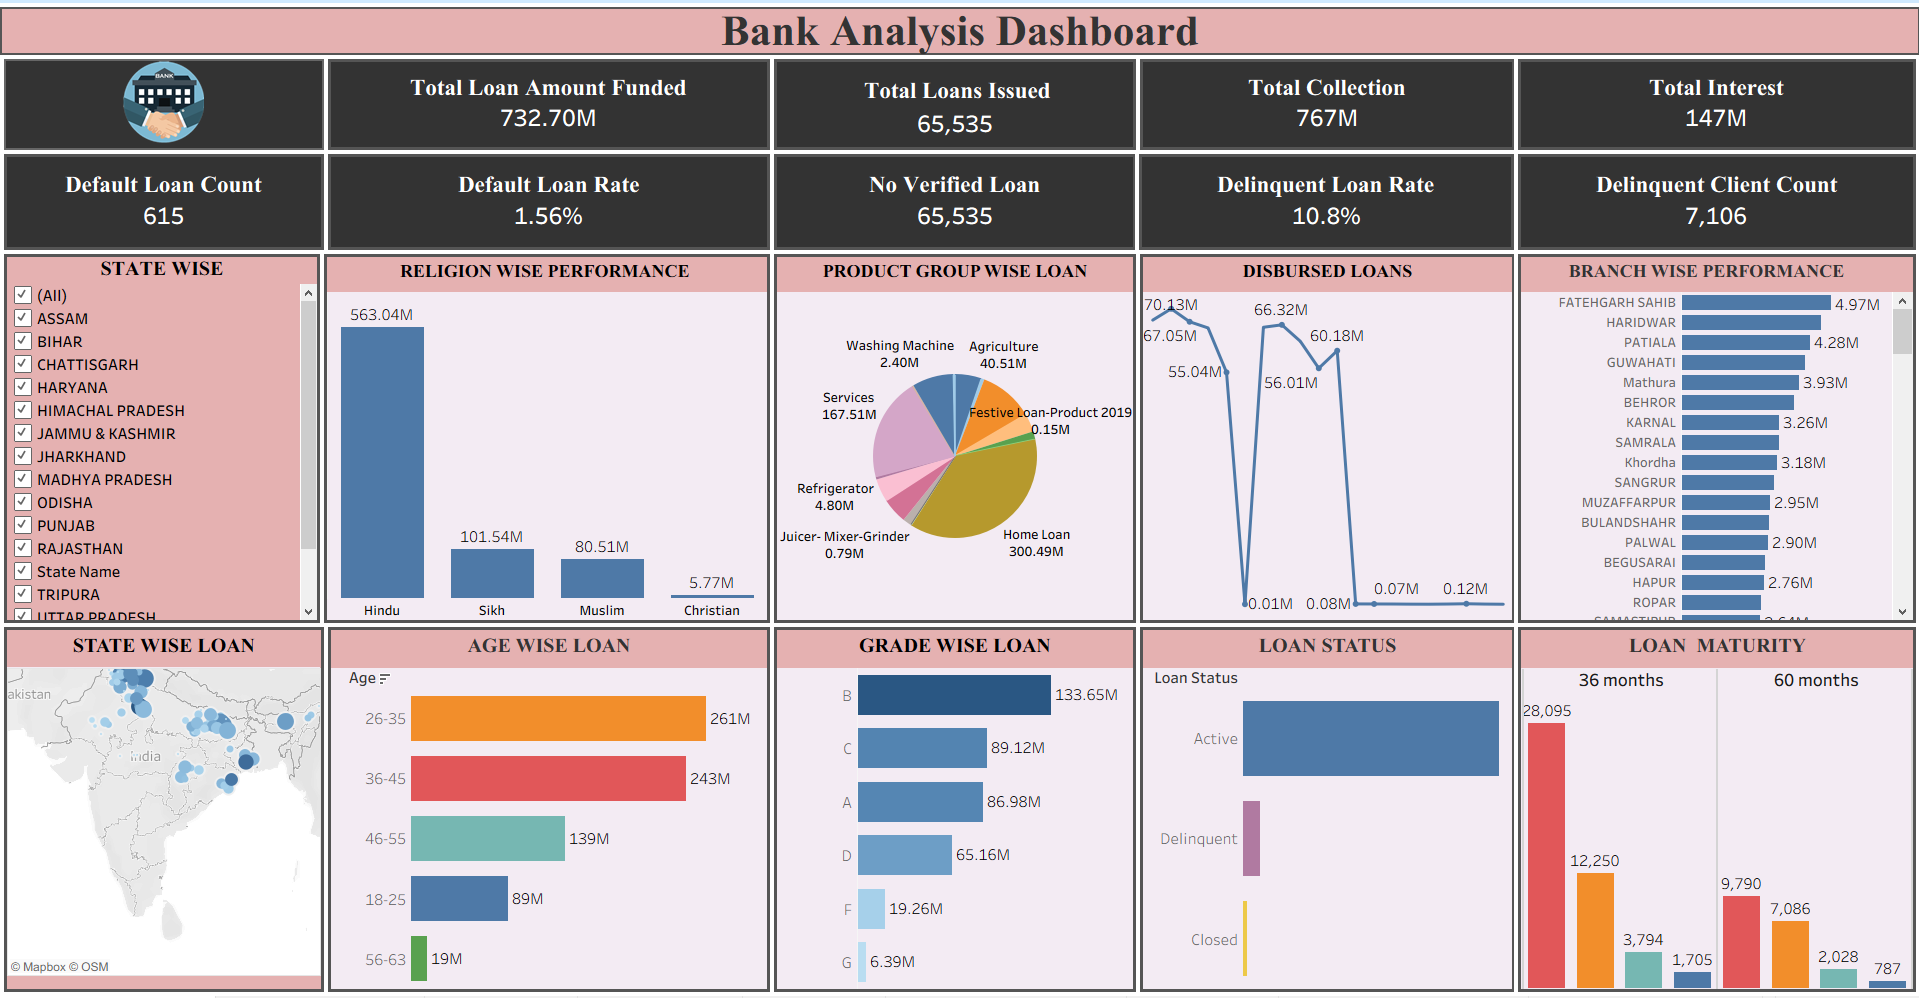

What the dashboard file says about the page in this screenshot:
{"tool":"tableau","page":{"name":"Bank Analysis Dashboard","canvas":[1000,1000],"units":"permille","ordinal":0},"visuals":[{"type":"title","box":[0,0,1000,64.1]},{"type":"image","param":"Image/Bank-logo.png","box":[0,64.1,168.6,122.1]},{"type":"worksheet","title":"Total Loan Amount Funded","mark":"Automatic","box":[168.6,64.1,232.4,122.1]},{"type":"worksheet","title":" Total Loans Issued","mark":"Text","box":[401,64.1,190.6,122.1]},{"type":"worksheet","title":"TOTAL COLLECTION","mark":"Automatic","box":[591.5,64.1,197.2,122.1]},{"type":"worksheet","title":"TOTAL INTEREST","mark":"Automatic","box":[788.7,64.1,211.3,122.1]},{"type":"worksheet","title":"Default loan count","mark":"Text","box":[0,186.2,168.6,118.4]},{"type":"worksheet","title":"Default Loan Rate","mark":"Automatic","box":[168.6,186.2,232.2,118.4]},{"type":"worksheet","title":"No Verified Loan","mark":"Automatic","box":[400.8,186.2,190.5,118.4]},{"type":"worksheet","title":"Delinquent Loan Rate","mark":"Automatic","box":[591.3,186.2,197.4,118.4]},{"type":"worksheet","title":"Delinquent Client Count","mark":"Text","box":[788.7,186.2,211.3,118.4]},{"type":"filter","title":"STATE WISE LOAN","param":"[federated.0hdqj9p0ze02lq10lyrfq077x4pb].[none:State Name:nk]","box":[0,304.6,168.6,347.7]},{"type":"worksheet","title":"RELIGION WISE PERFORMANCE ","mark":"Automatic","rows":["Loan Amount"],"cols":["Religion"],"box":[168.6,304.6,232.5,347.7]},{"type":"worksheet","title":"PRODUCT GROUP WISE LOAN","mark":"Pie","box":[401.1,304.6,190.5,347.7]},{"type":"worksheet","title":"Disbursed loans","mark":"Line","rows":["Loan Amount"],"cols":["NextMeetingDate"],"box":[591.6,304.6,197.2,347.7]},{"type":"worksheet","title":"BRANCH WISE PERFORMANCE","mark":"Automatic","rows":["Branch Name"],"cols":["Total Rrec int"],"box":[788.8,304.6,211.2,347.7]},{"type":"worksheet","title":"STATE WISE LOAN","mark":"Automatic","box":[0,652.3,168.6,347.7]},{"type":"worksheet","title":"Age Wise Loan","mark":"Automatic","rows":["Age"],"cols":["Loan Amount"],"box":[168.6,652.3,232.5,347.7]},{"type":"worksheet","title":"Grade wise loan","mark":"Automatic","rows":["Grrade"],"cols":["Loan Amount"],"box":[401.1,652.3,190.5,347.7]},{"type":"worksheet","title":"Loan Status","mark":"Automatic","rows":["Loan Status"],"box":[591.6,652.3,197.2,347.7]},{"type":"worksheet","title":"Loan Maturity","mark":"Automatic","rows":["Term"],"cols":["Term","Disbursement Date (Years)"],"box":[788.8,652.3,211.2,347.7]}]}

Visuals, with their boxes on the dashboard's canvas, which has no fixed pixel size, in thousandths of its width and height (x1, y1, x2, y2). These are canvas units, not pixel positions in the 1919x998 screenshot, which may show the page scaled, cropped or inside an application window:
title: bbox=[0, 0, 1000, 64]
image: bbox=[0, 64, 169, 186]
"Total Loan Amount Funded" worksheet: bbox=[169, 64, 401, 186]
" Total Loans Issued" worksheet (Text marks): bbox=[401, 64, 592, 186]
"TOTAL COLLECTION" worksheet: bbox=[592, 64, 789, 186]
"TOTAL INTEREST" worksheet: bbox=[789, 64, 1000, 186]
"Default loan count" worksheet (Text marks): bbox=[0, 186, 169, 305]
"Default Loan Rate" worksheet: bbox=[169, 186, 401, 305]
"No Verified Loan" worksheet: bbox=[401, 186, 591, 305]
"Delinquent Loan Rate" worksheet: bbox=[591, 186, 789, 305]
"Delinquent Client Count" worksheet (Text marks): bbox=[789, 186, 1000, 305]
"STATE WISE LOAN" filter: bbox=[0, 305, 169, 652]
"RELIGION WISE PERFORMANCE " worksheet: bbox=[169, 305, 401, 652]
"PRODUCT GROUP WISE LOAN" worksheet (Pie marks): bbox=[401, 305, 592, 652]
"Disbursed loans" worksheet (Line marks): bbox=[592, 305, 789, 652]
"BRANCH WISE PERFORMANCE" worksheet: bbox=[789, 305, 1000, 652]
"STATE WISE LOAN" worksheet: bbox=[0, 652, 169, 1000]
"Age Wise Loan" worksheet: bbox=[169, 652, 401, 1000]
"Grade wise loan" worksheet: bbox=[401, 652, 592, 1000]
"Loan Status" worksheet: bbox=[592, 652, 789, 1000]
"Loan Maturity" worksheet: bbox=[789, 652, 1000, 1000]
